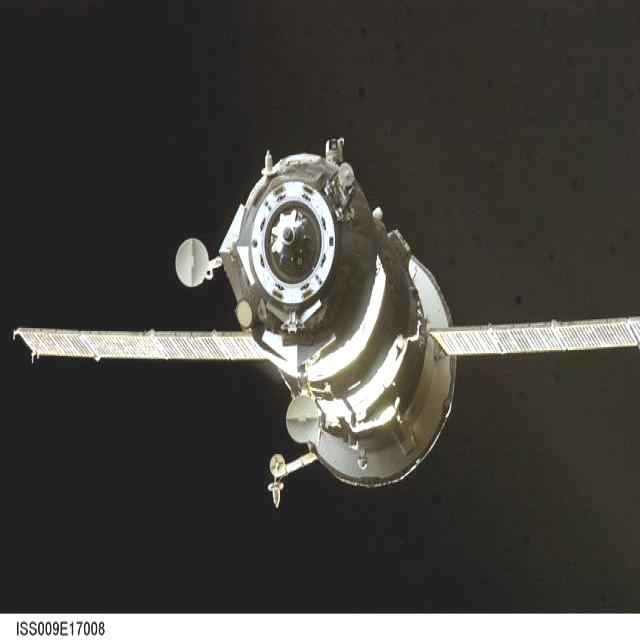medium_debris: (16, 139, 640, 504)
